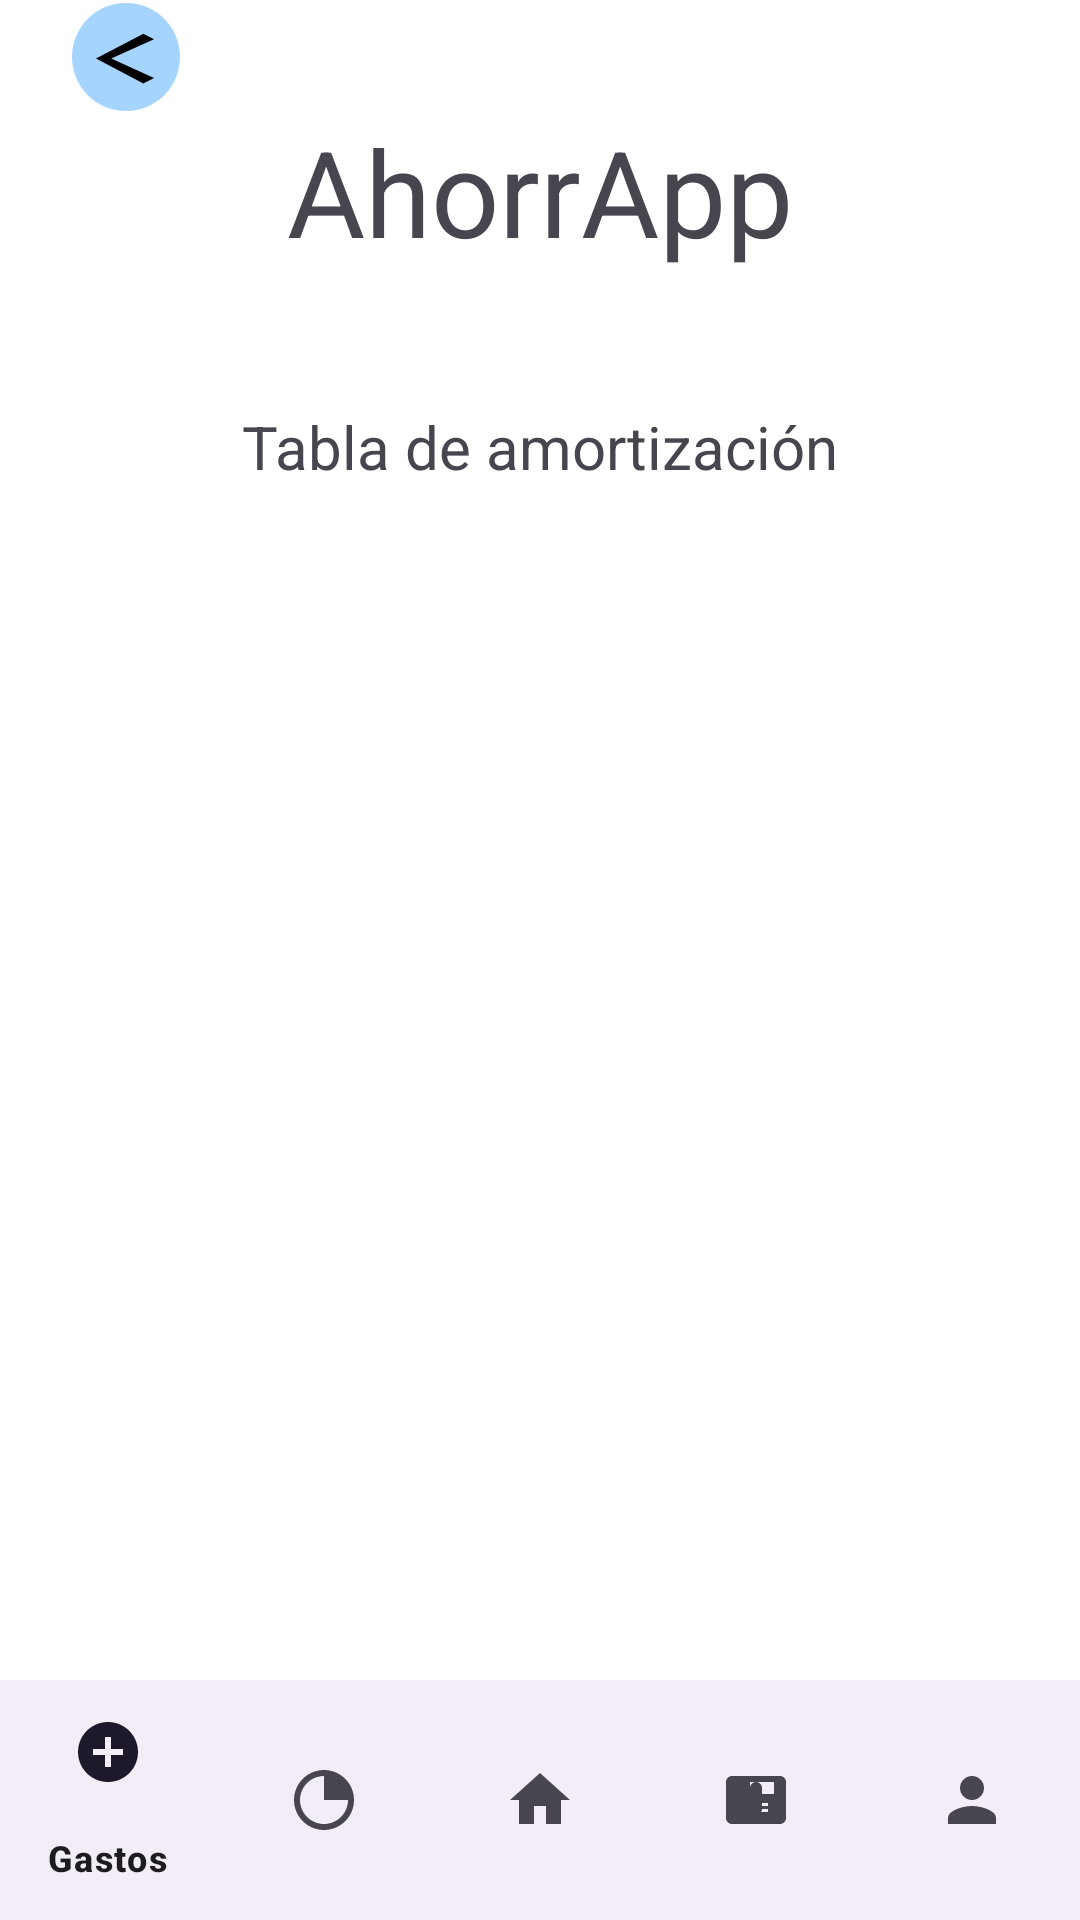

Where icons sit on this 1080 × 1920 app screen, as rect(x1, y1, x2, y2):
arrow back: rect(72, 3, 180, 111)
